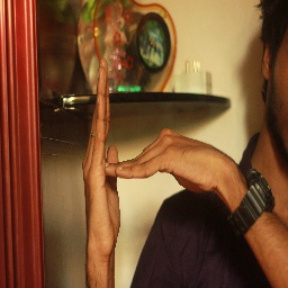Z: (73, 55, 222, 252)
